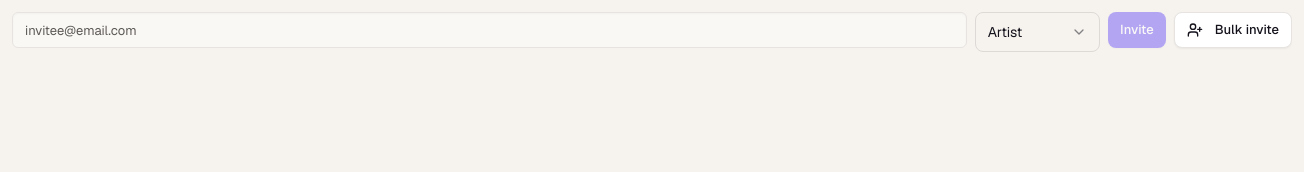
Test: InviteBar duplicate detection › disables Invite and warns when the email is already a member
The width and height of the screenshot is (1304, 172).
Type "bob@x.com" into the field with placeholder "invitee@email.com" at (489, 30), box left=12, top=12, right=967, bottom=48
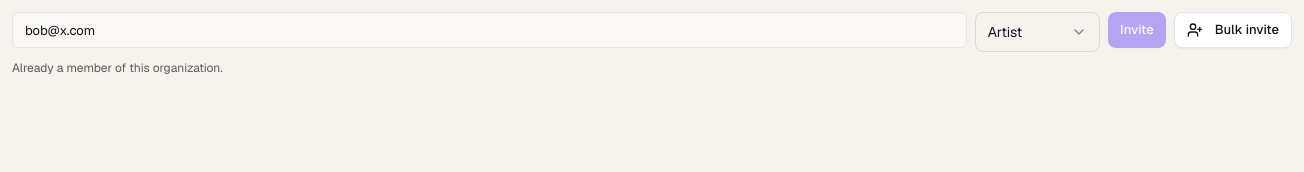
Expected: the button "Invite" is disabled, left=1108, top=12, right=1166, bottom=48
Expected: the text "Already a member of this organization." is shown, left=12, top=60, right=223, bottom=76
